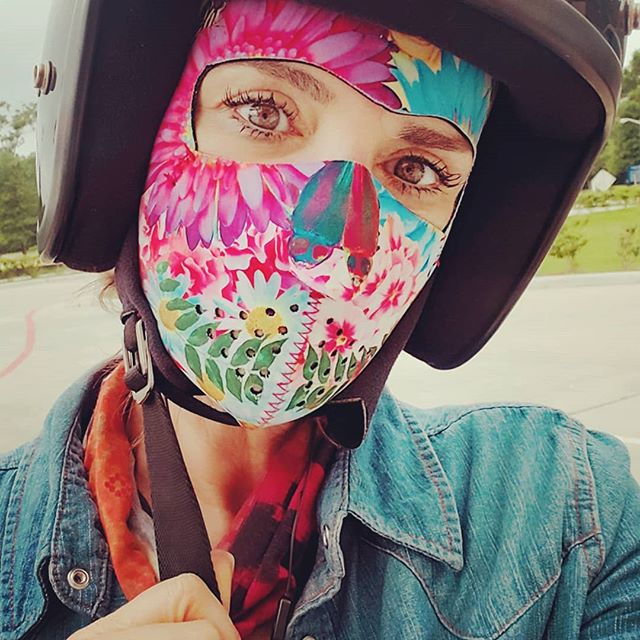homemade: (162, 140, 450, 427)
